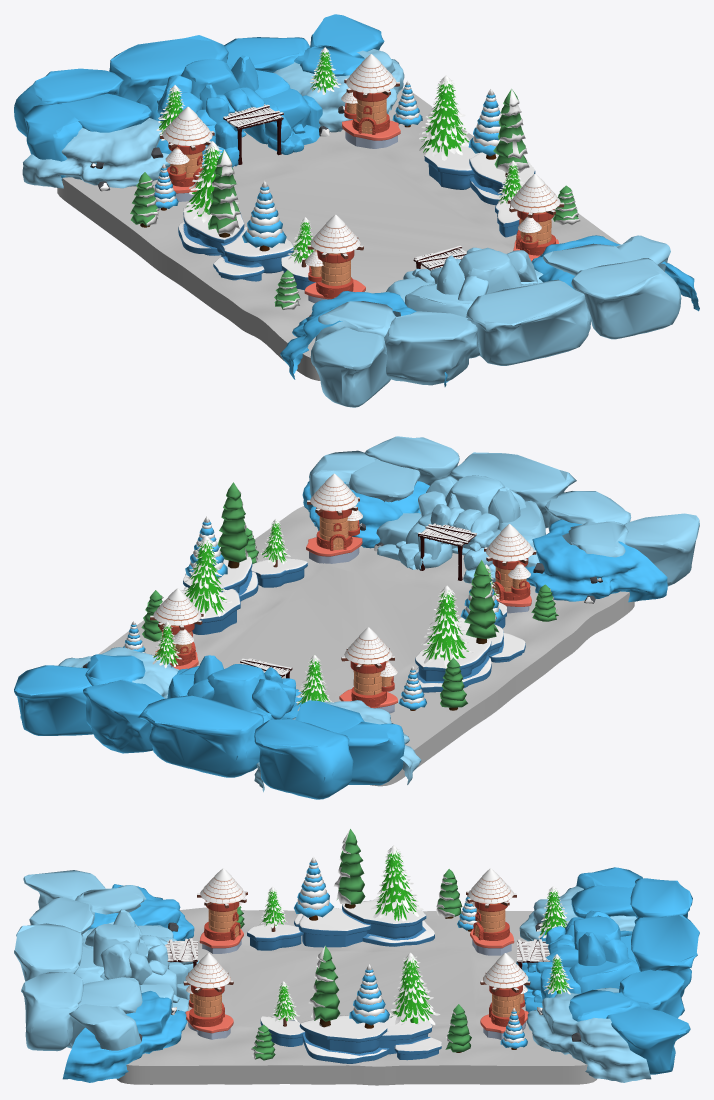
Rendered from Map.glb.
3 renders of one model, top to bottom at view 1: azimuth 30°, elevation 25°; view 2: azimuth 150°, elevation 25°; view 3: azimuth 270°, elevation 25°, orthographic. The views are drawn at different scales.
Visible parts, largest first — view 1: Plane, Object_88.005, Object_88, Plane.001, Tree-Stabd-1, HOUSE-1, HOUSE-1.001, Plane.002, Tree-4, Tree-6, Tree-1, Tree-7 (+8 smaller); view 2: Plane, Object_88, Object_88.005, Plane.002, Tree-Stabd-1, HOUSE-1.001, HOUSE-1, Tree-4, Tree-6, Plane.001, Tree-2, Tree-1 (+6 smaller); view 3: Plane, Object_88.005, Object_88, Tree-Stabd-1, Plane.001, Plane.002, HOUSE-1.001, HOUSE-1, Tree-4, Tree-6, Tree-1, Tree-2 (+8 smaller).
Part boxes in pixels (x1,y1,x2,y2): Plane: (57,88,620,380); Object_88.005: (310,235,681,407); Object_88: (14,14,384,180); Plane.001: (22,49,404,188); Tree-Stabd-1: (178,143,535,290); HOUSE-1: (341,54,563,261); HOUSE-1.001: (160,106,365,303); Plane.002: (280,235,699,386); Tree-4: (183,75,470,222); Tree-6: (207,88,529,237); Tree-1: (242,89,501,251); Tree-7: (154,81,422,210); Plane: (98,506,634,786); Object_88: (14,654,404,799); Object_88.005: (309,436,699,586); Plane.002: (302,481,667,602); Tree-Stabd-1: (177,556,525,692); HOUSE-1.001: (339,524,536,713); HOUSE-1: (150,473,362,669); Tree-4: (181,535,474,667); Tree-6: (217,482,498,643); Plane.001: (20,647,421,792); Tree-2: (141,590,467,710); Tree-1: (185,516,502,622); Plane: (117,907,596,1085); Object_88.005: (14,870,198,1051); Object_88: (516,867,699,1074); Tree-Stabd-1: (247,900,441,1063); Plane.001: (519,886,651,1082); Plane.002: (62,884,194,1082); HOUSE-1.001: (197,868,516,955); HOUSE-1: (183,953,530,1039); Tree-4: (370,845,440,1025); Tree-6: (309,829,365,1027); Tree-1: (294,857,389,1028); Tree-2: (436,869,471,1052).
Bounding box in the file's own units: 13.53 × 4.57 × 22.79.
21 materials, 5 textured.
